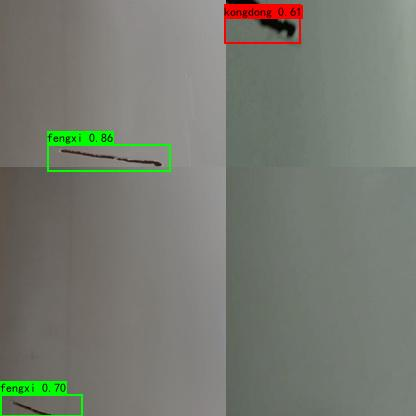fengxi: (225, 1, 301, 39), (59, 144, 166, 170), (12, 397, 55, 416)
